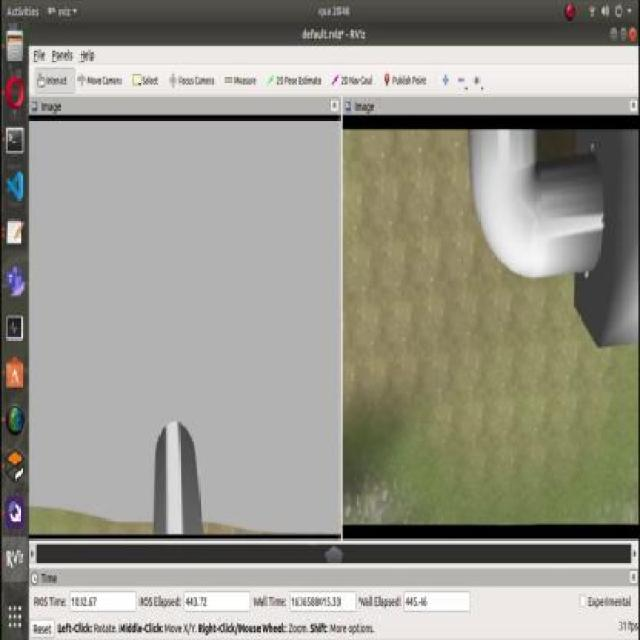gas: (467, 129, 605, 282), (148, 422, 207, 535)
